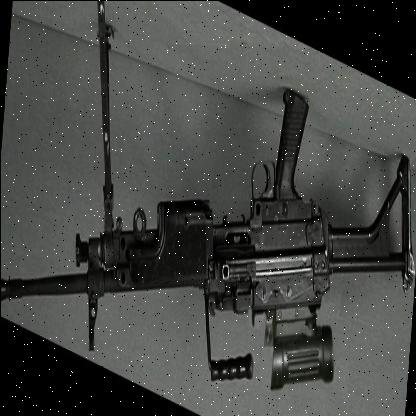rifle: (0, 0, 413, 416)
